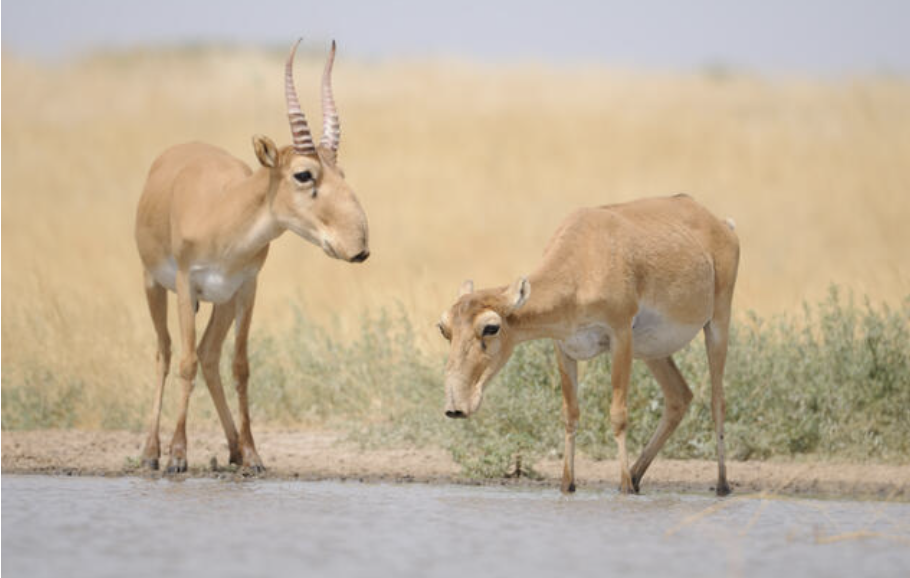saiga: (127, 29, 377, 482), (435, 186, 731, 504)
